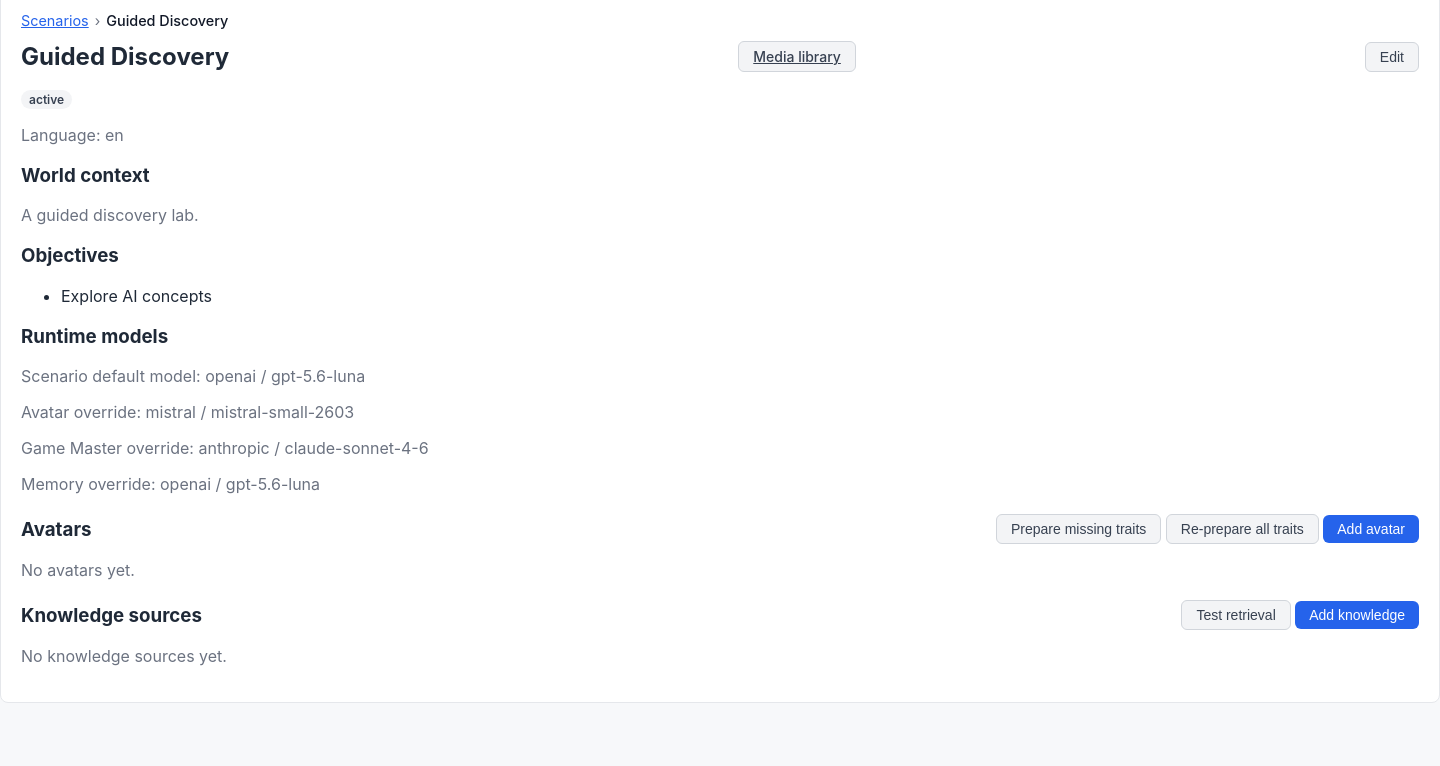
Test case: ScenarioDetailPage scenario edit form › shows scenario edit form when Edit button is clicked
Expected: the heading "Guided Discovery" is shown, [21, 42, 229, 71]
Click the button "Edit".
click(1392, 56)  # box [1365, 42, 1419, 72]
(page scrolled)
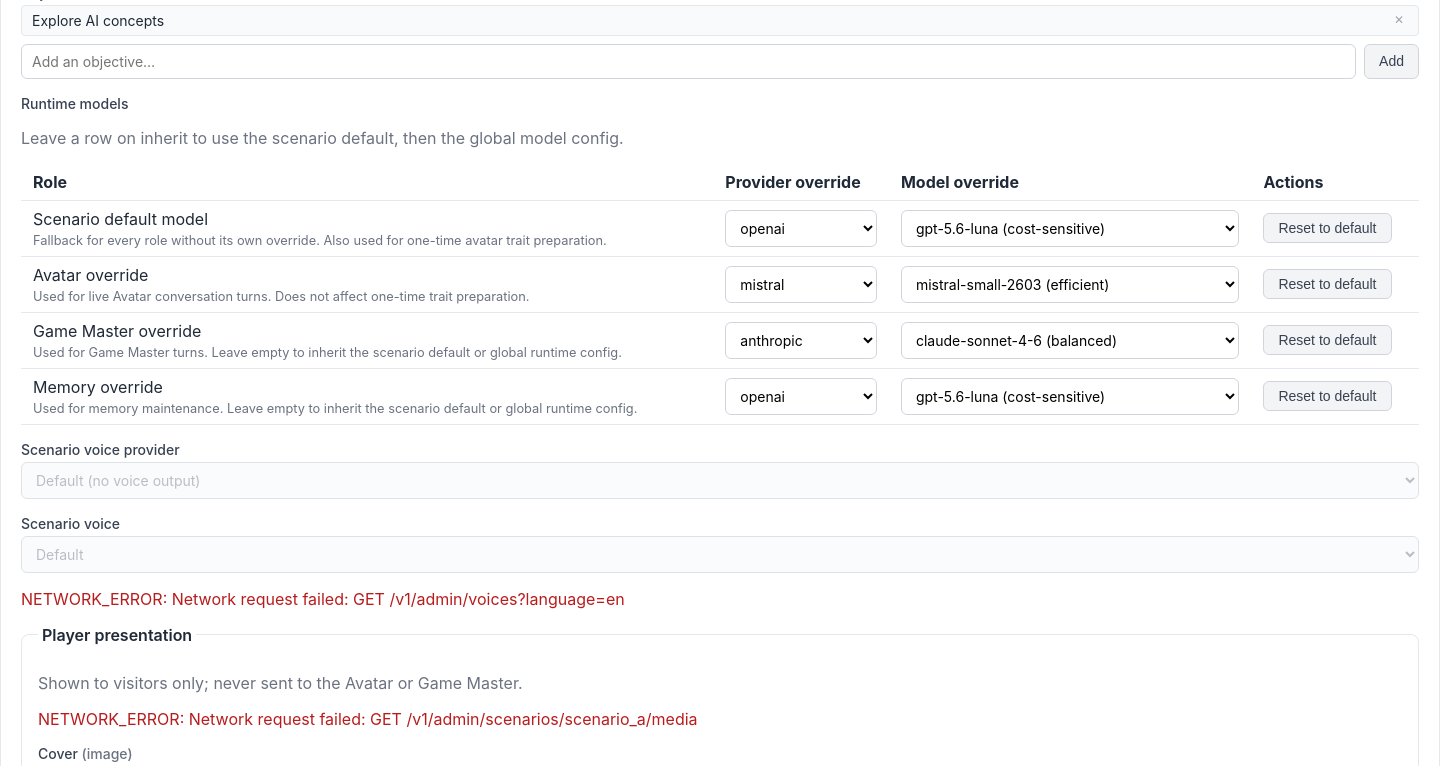
Expected: the dropdown with id "edit-sc-avatar-model-model" shows "mistral-small-2603 (efficient)", [901, 266, 1240, 303]
Expected: the dropdown with id "edit-sc-memory-model-model" shows "gpt-5.6-luna (cost-sensitive)", [901, 378, 1240, 415]
